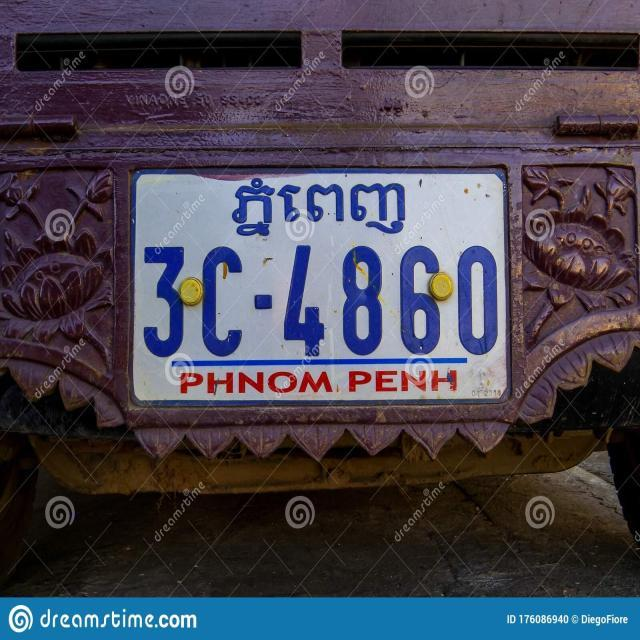Phnom_Penh: (231, 177, 405, 238)
